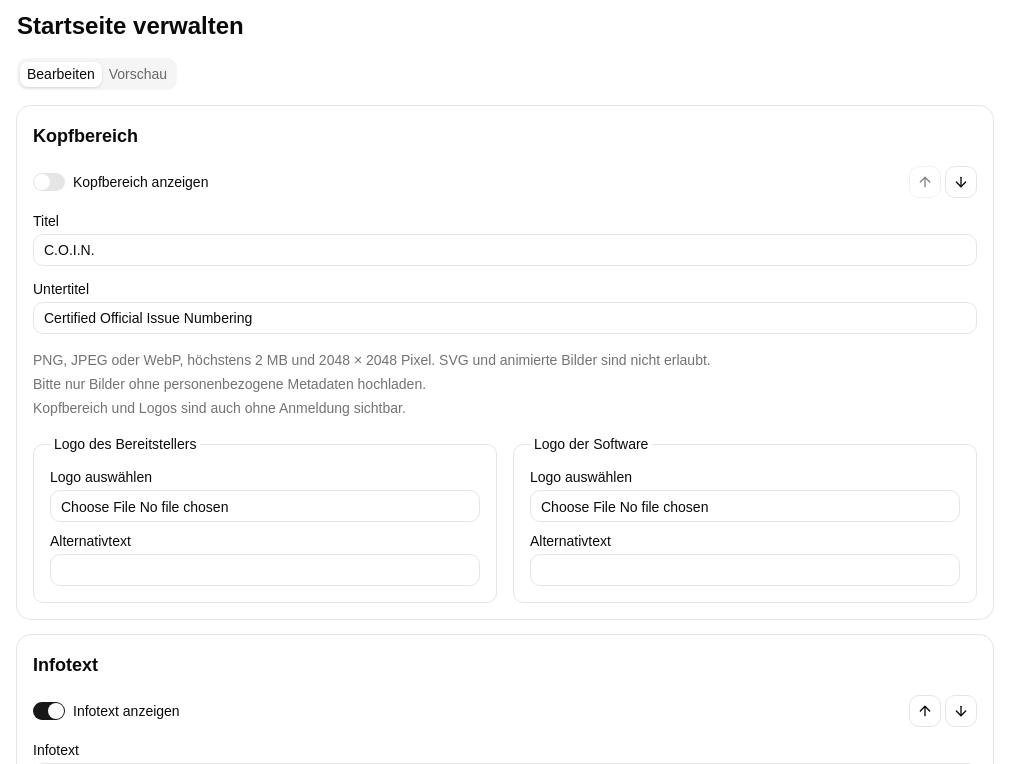
Test case: Vorschau (AK-29) › zeigt die Vorschau als Abschnitt „Vorschau der Startseite“
Check: the switch named "Kopfbereich anzeigen" next to "Kopfbereich anzeigen" is shown, box [33,173,65,191]
Click the tab "Vorschau" at (138, 74), box [102,62,174,86]
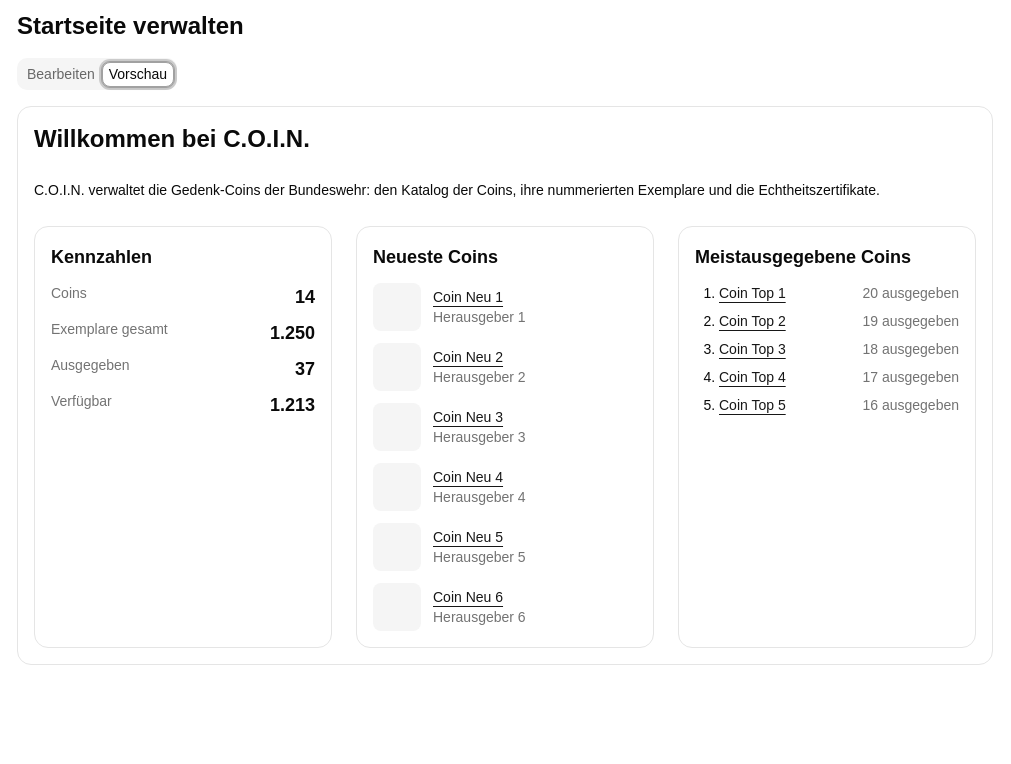
Check: the element named "Vorschau der Startseite" is shown
